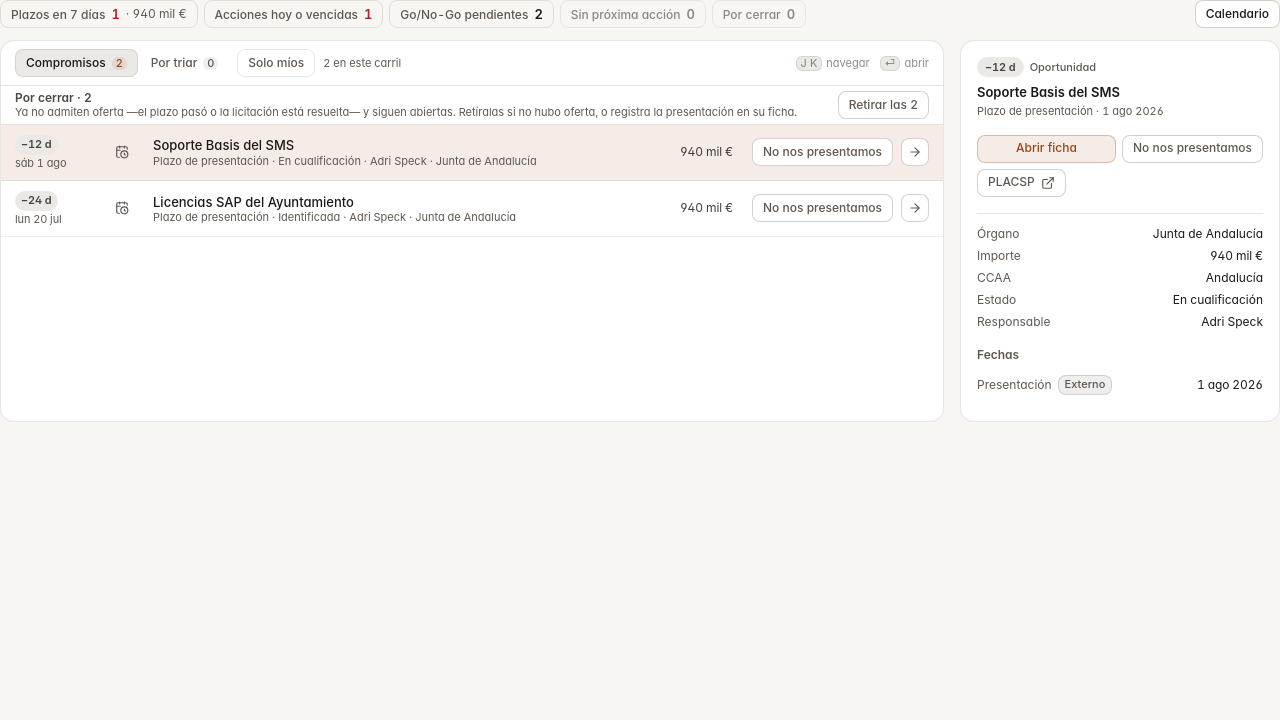
Test case: AgendaView — cerrar varias de una vez › sin ninguna marcada no hay nada que retirar
Click the button "Retirar las 2": (883, 105) x1=838 y1=91 x2=929 y2=119
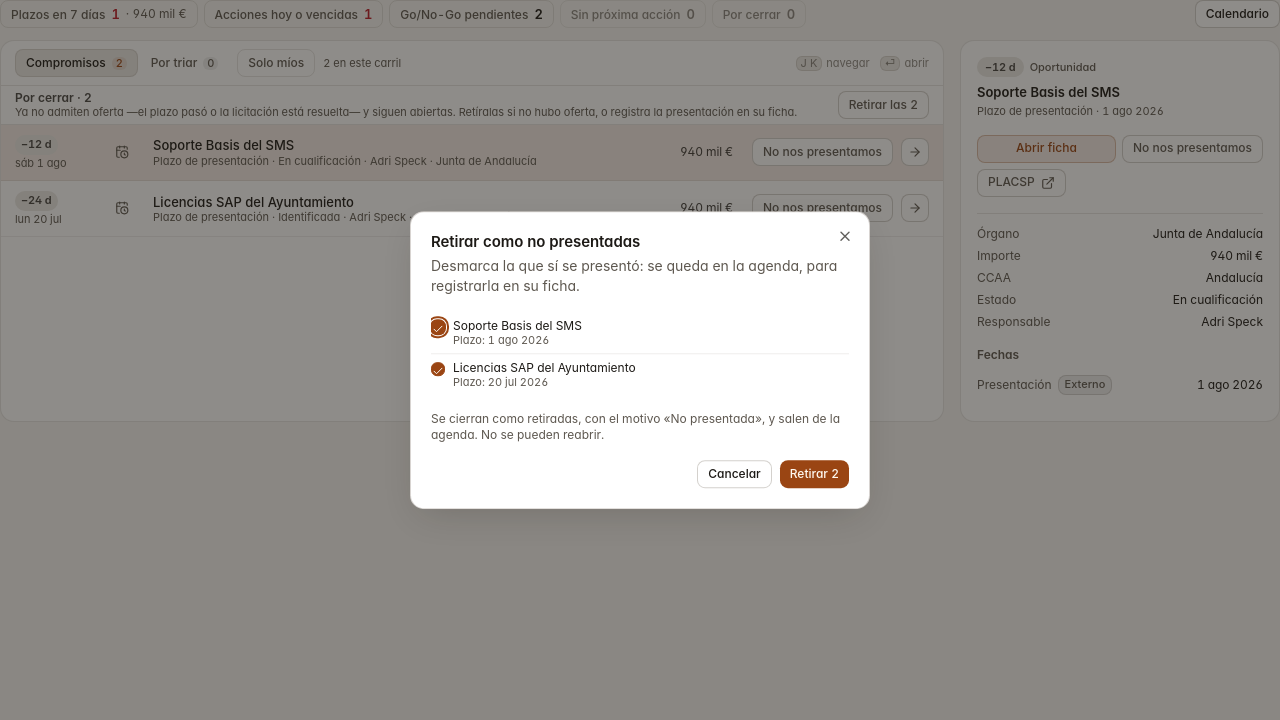
Click the 1st checkbox: (438, 327) x1=431 y1=320 x2=445 y2=334
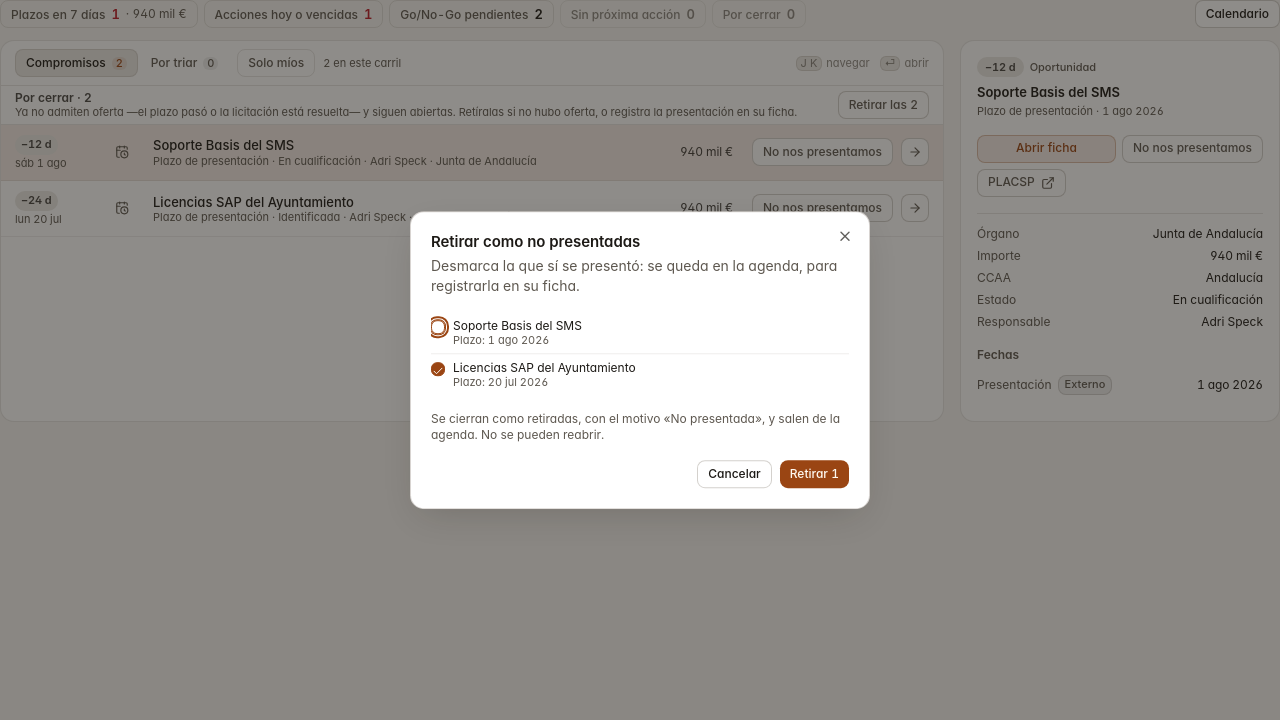
Click the 2nd checkbox: (438, 369) x1=431 y1=362 x2=445 y2=376
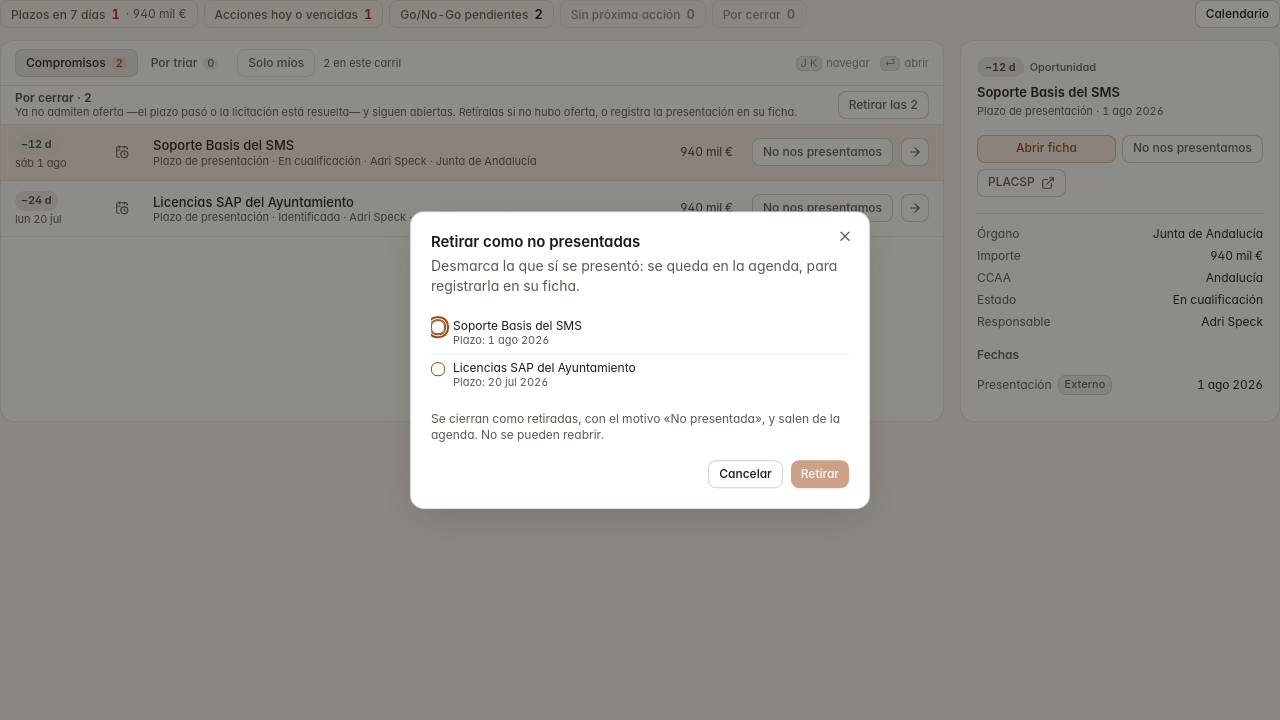
Expected: the button "Retirar" is disabled, x1=791 y1=460 x2=849 y2=488
